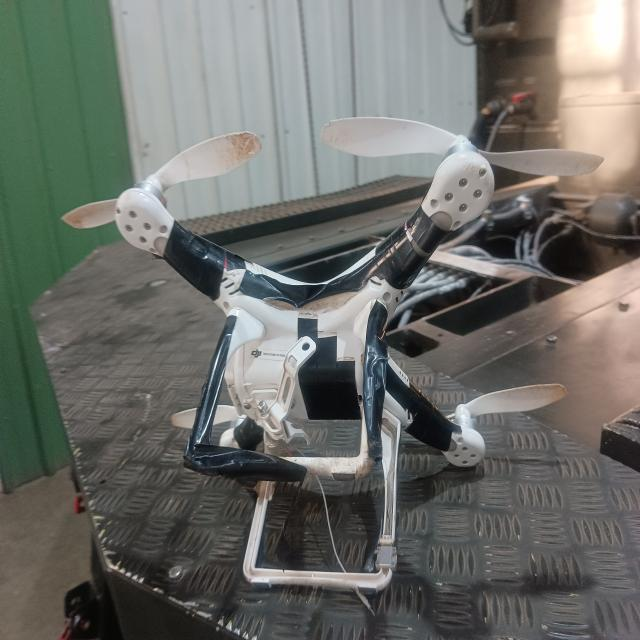drone: (60, 94, 617, 605)
